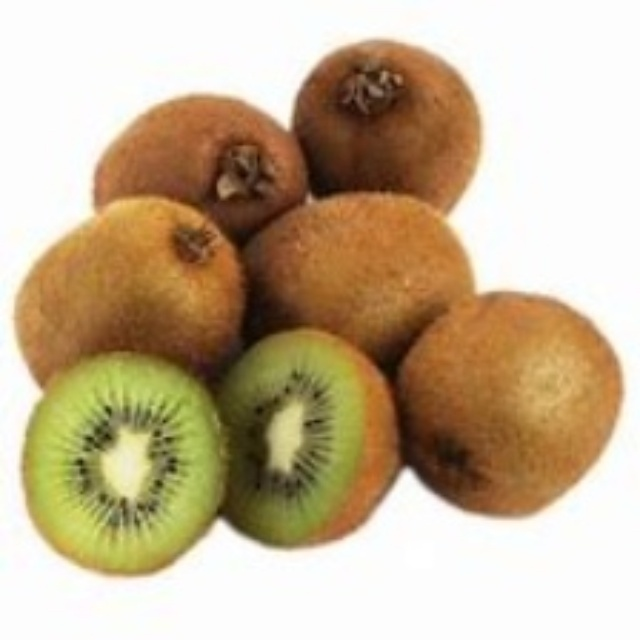kiwi: (401, 282, 620, 521), (7, 363, 229, 581), (201, 322, 410, 548), (18, 199, 253, 394), (246, 181, 476, 354), (105, 84, 302, 249), (305, 42, 476, 210)
